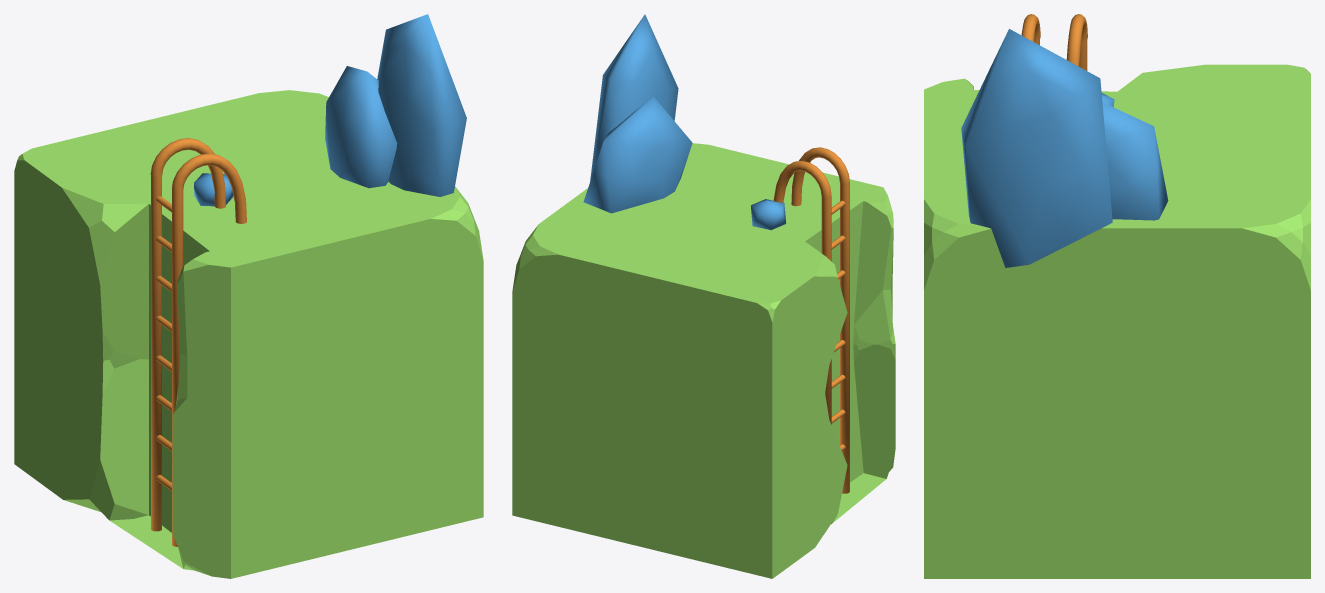
Rendered from tile-leaderEnd.glb.
The picture shows the model from 3 angles, left to right: view 1: azimuth 30°, elevation 25°; view 2: azimuth 150°, elevation 25°; view 3: azimuth 270°, elevation 25°; orthographic projection. The views are drawn at different scales.
Visible parts, largest first — view 1: Cube.010, Icosphere.002, Cylinder.007, Icosphere.001, Cylinder.008, Icosphere.003; view 2: Cube.010, Icosphere.001, Icosphere.002, Cylinder.007, Icosphere.003, Cylinder.008; view 3: Cube.010, Icosphere.002, Icosphere.001, Cylinder.007.
Boxes of the visible parts, x1=… form: Cube.010: x1=14, y1=90, x2=483, y2=578; Icosphere.002: x1=377, y1=14, x2=466, y2=196; Cylinder.007: x1=150, y1=138, x2=246, y2=546; Icosphere.001: x1=325, y1=66, x2=397, y2=188; Cylinder.008: x1=156, y1=196, x2=171, y2=490; Icosphere.003: x1=194, y1=173, x2=233, y2=206; Cube.010: x1=512, y1=143, x2=895, y2=578; Icosphere.001: x1=583, y1=97, x2=692, y2=213; Icosphere.002: x1=590, y1=14, x2=678, y2=181; Cylinder.007: x1=773, y1=147, x2=849, y2=493; Icosphere.003: x1=751, y1=199, x2=786, y2=230; Cylinder.008: x1=831, y1=200, x2=845, y2=450; Cube.010: x1=924, y1=64, x2=1310, y2=578; Icosphere.002: x1=961, y1=29, x2=1112, y2=267; Icosphere.001: x1=1102, y1=102, x2=1168, y2=220; Cylinder.007: x1=1021, y1=14, x2=1087, y2=70.
Bounding box in the file's own units: 1.04 × 1.54 × 1.
